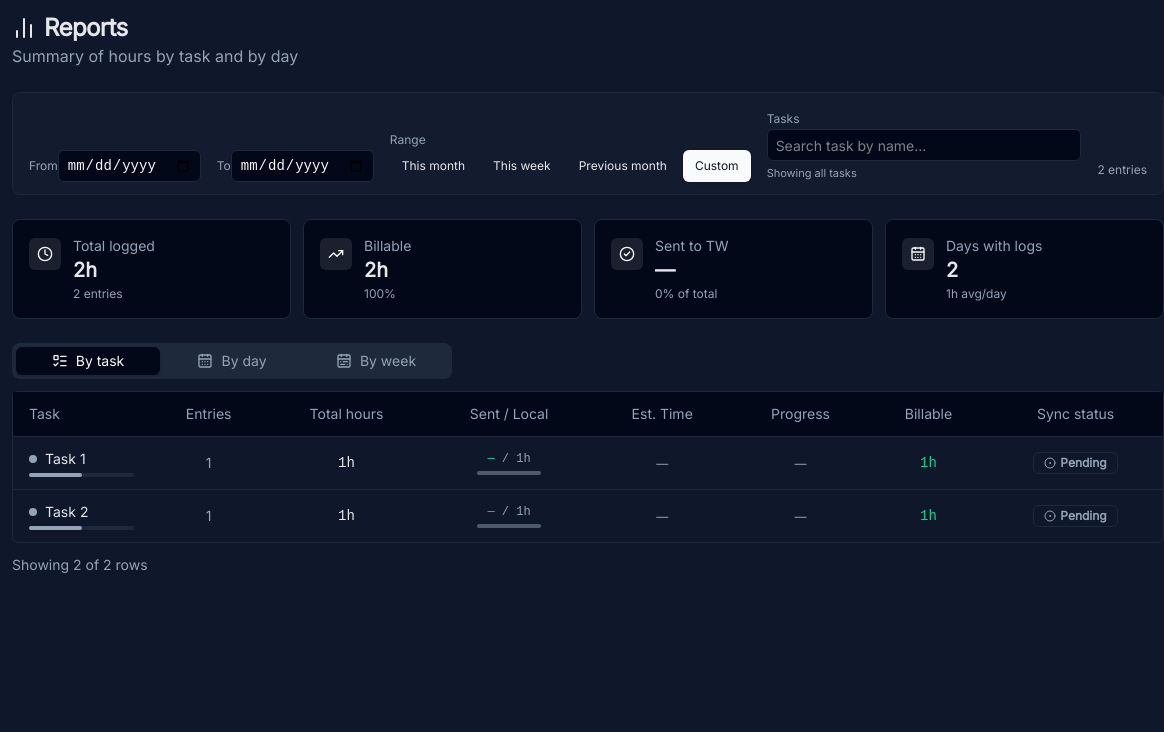
it: ReportsPage range presets (UX-701) › applies the computed range to the from/to inputs on preset click
Click the button "This month" at (433, 166), box left=390, top=150, right=477, bottom=182
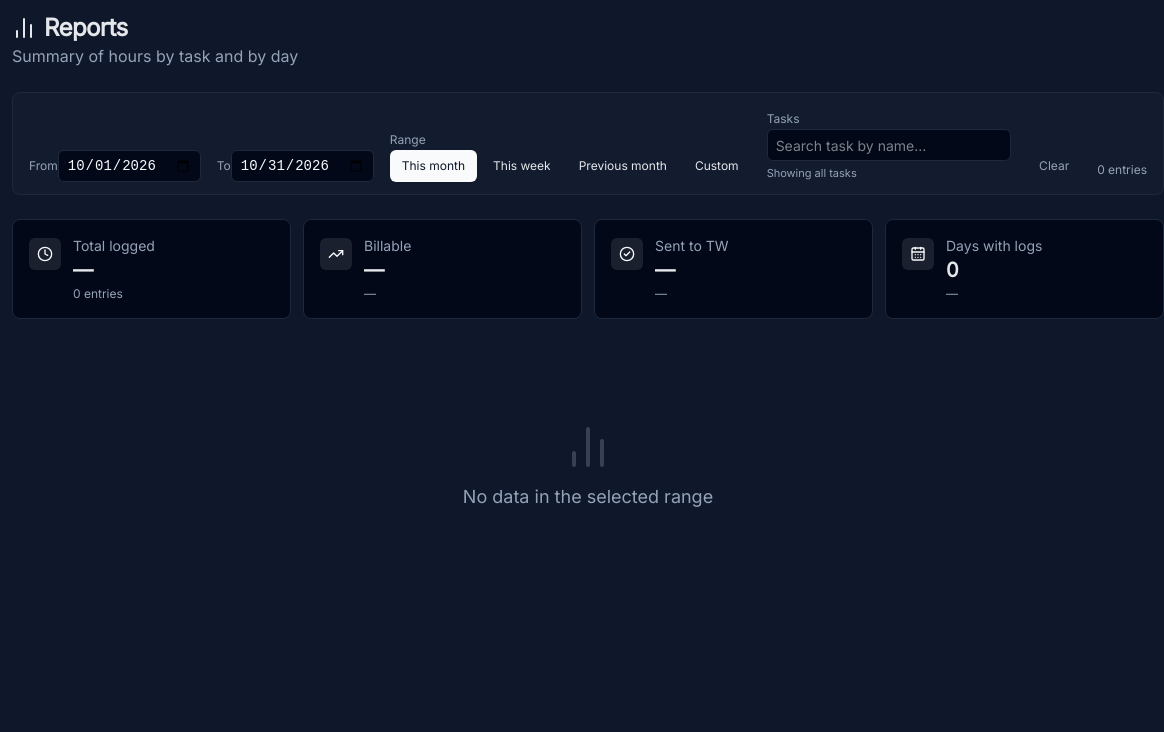
Result: the date field next to "From" holds "2026-10-01" at left=58, top=150, right=201, bottom=182
Result: the 2nd date field holds "2026-10-31" at left=231, top=150, right=374, bottom=182
